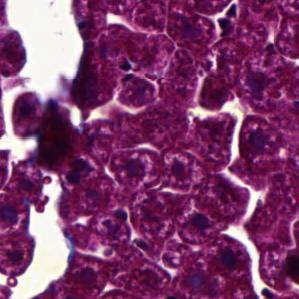inflammation: (210, 0, 245, 42)
